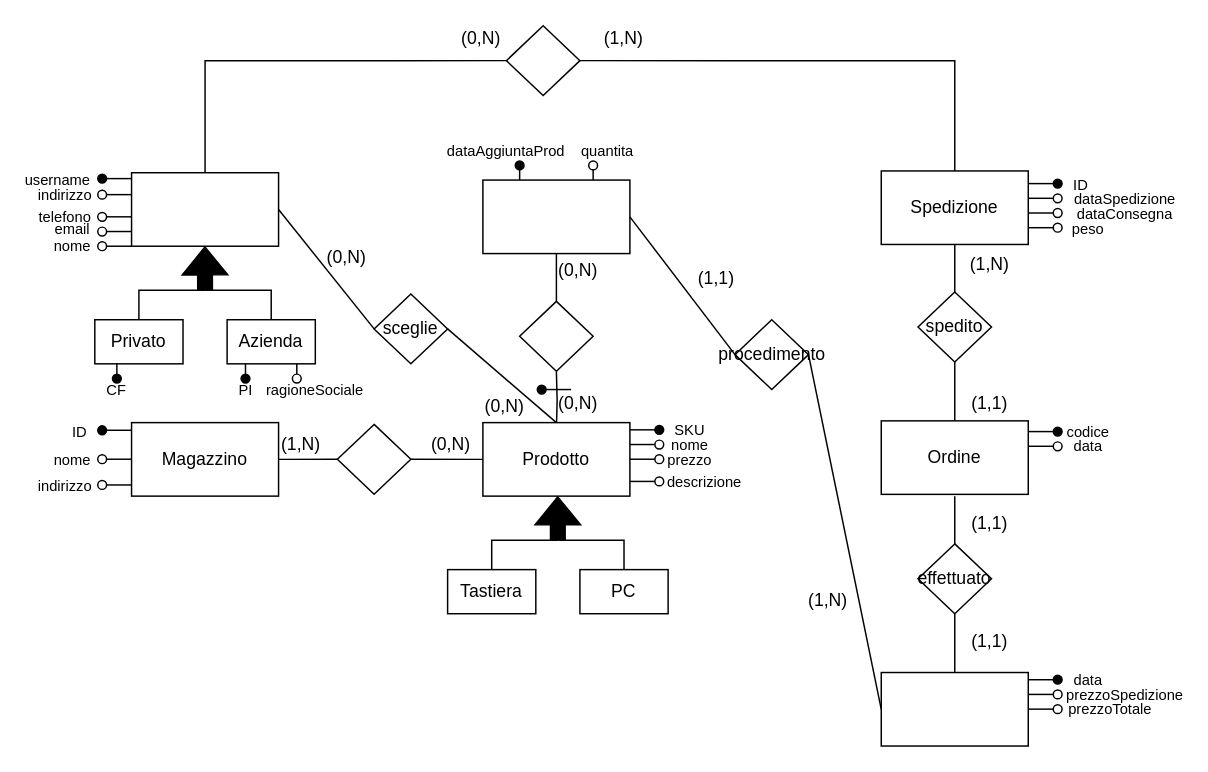
The diagram is 1208 pixels wide and 772 high, and some of its shapes have lost their labels. The shapes that lost their labels are listed below. From the top down, each one's centre as x and y in pixels, then its label:
At (542,60): "destinatario".
At (204,208): "Utente".
At (555,216): "Carrello".
At (555,335): "aggiunto".
At (373,458): "situato".
At (954,708): "Pagamento".
